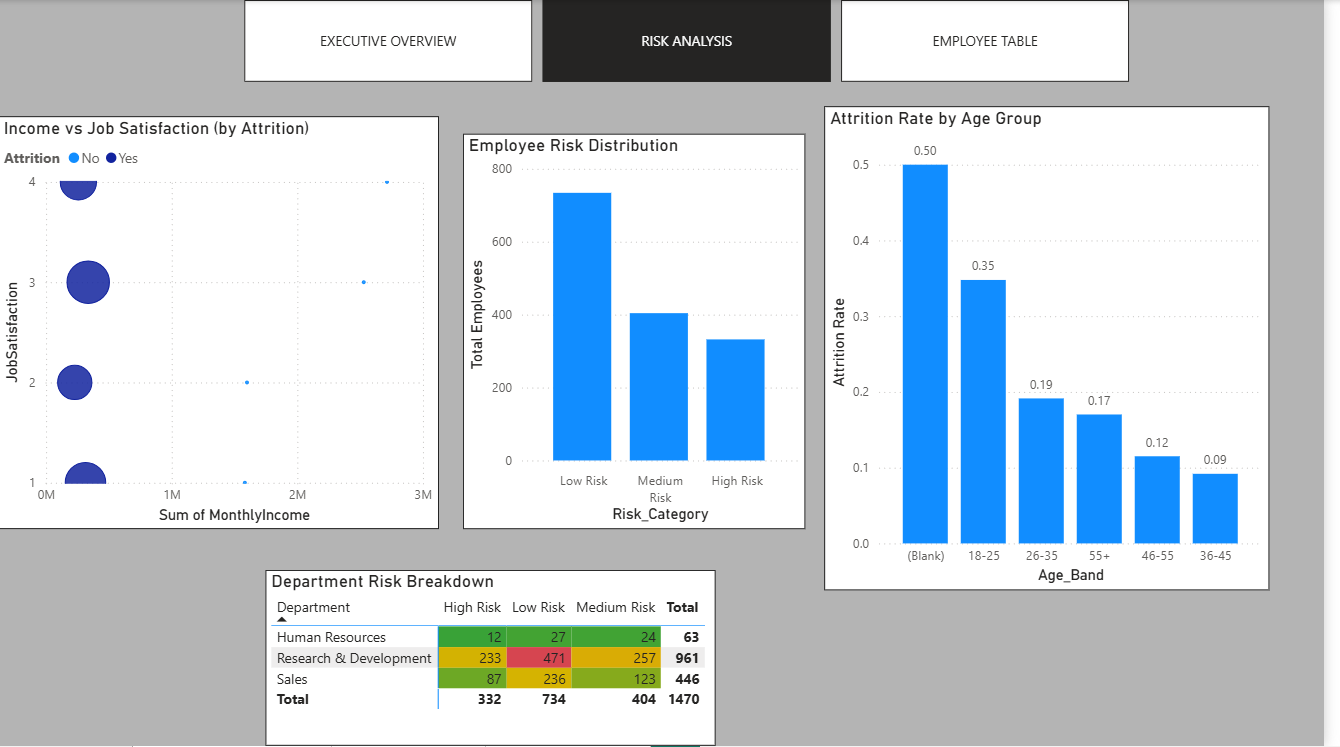

Layout of this report page (visuals, bound fields, positions):
{"tool":"powerbi","page":{"name":"RISK ANALYSIS","canvas":[1280,720],"ordinal":1},"visuals":[{"type":"clusteredColumnChart","title":"Employee Risk Distribution","fields":{"Category":["Risk_Summary.Risk_Category"],"Y":["Employee_Data.Total Employees"]},"box":[448.8,129.6,330.2,381.5],"z":0},{"type":"pageNavigator","box":[237.2,0,856,79.5],"z":1000},{"type":"pivotTable","title":"Department Risk Breakdown","fields":{"Rows":["Dept_Summary.Department"],"Columns":["Employee_Data.Risk_Category"],"Values":["Employee_Data.Total Employees"]},"box":[258,550.3,434.1,170],"z":2000},{"type":"scatterChart","title":"Income vs Job Satisfaction (by Attrition)","fields":{"X":["Sum(Employee_Data.MonthlyIncome)"],"Y":["Employee_Data.JobSatisfaction"],"Series":["Employee_Data.Attrition"],"Size":["Sum(Employee_Data.AttritionFlag)"]},"box":[0,112.5,425.5,398.6],"z":3000},{"type":"clusteredColumnChart","title":"Attrition Rate by Age Group","fields":{"Category":["Age_Summary.Age_Band"],"Y":["Age_Summary.Attrition Rate"]},"box":[797.3,102.7,429.2,467.1],"z":4000}]}

Visuals, with their boxes in screenshot pixels (x1, y1, x2, y2), scaled from the page's 1280x720 canvas onto the 1340x747 screenshot:
"Employee Risk Distribution" clusteredColumnChart: select_region(470, 134, 816, 530)
pageNavigator: select_region(248, 0, 1144, 82)
"Department Risk Breakdown" pivotTable: select_region(270, 571, 725, 746)
"Income vs Job Satisfaction (by Attrition)" scatterChart: select_region(0, 117, 445, 530)
"Attrition Rate by Age Group" clusteredColumnChart: select_region(835, 107, 1284, 591)
